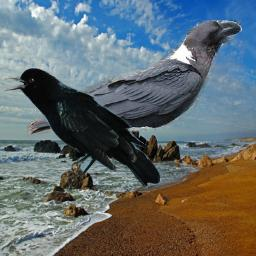Crow: (27, 20, 242, 137), (4, 68, 160, 193)
